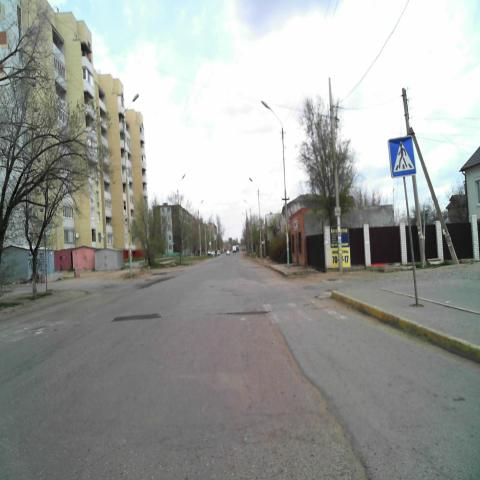5_19_1: (389, 135, 417, 179)
